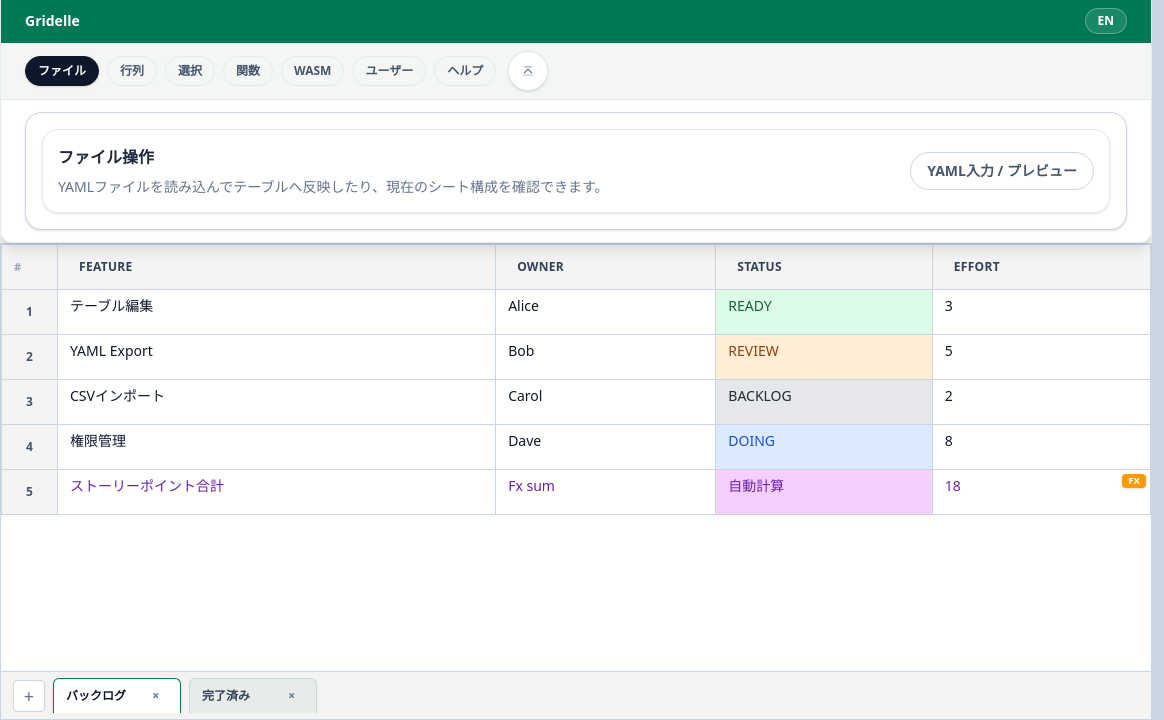
Test: App › すべての列を削除するとテーブルが空状態になる
Click the button with test id "menu-tab-structure" at (132, 71), box [107,56,157,86]
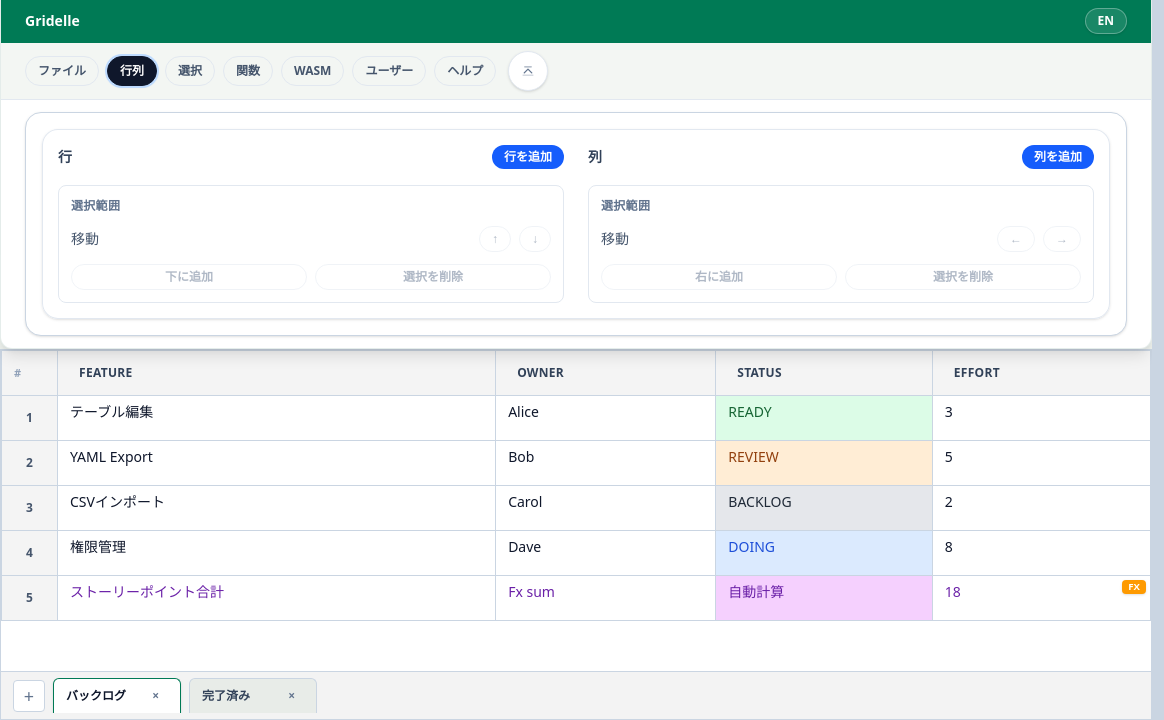
Click the button with test id "column-select-0" at (106, 372), box [70,357,483,389]
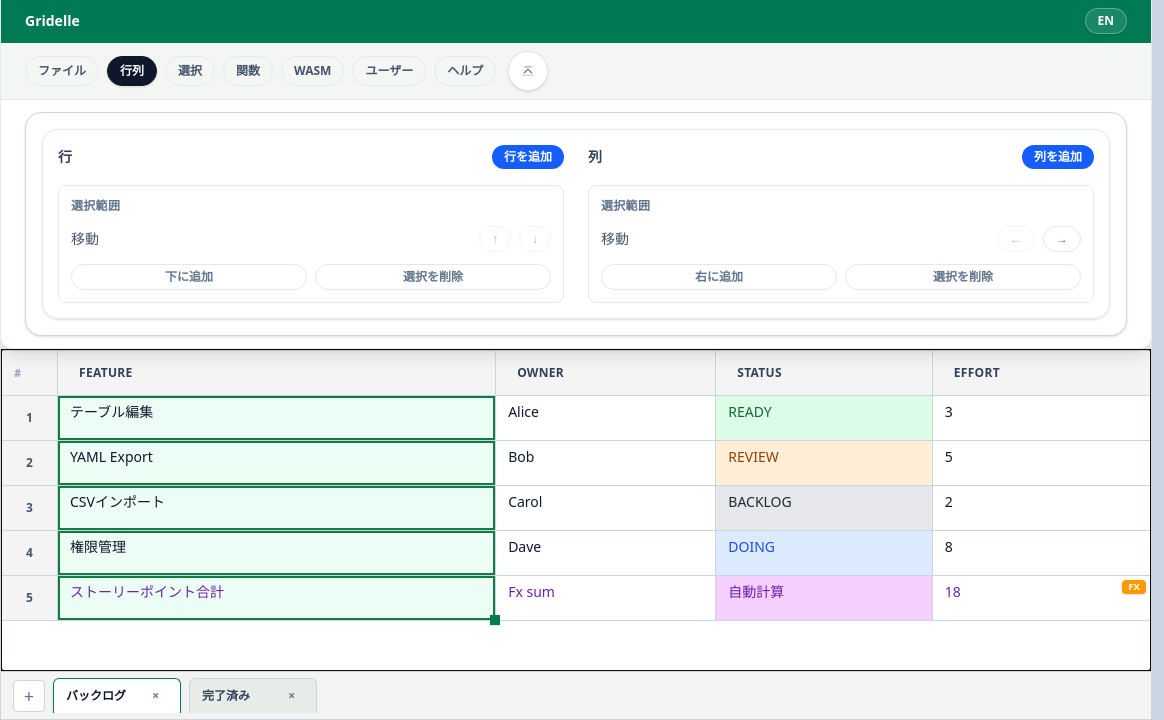
Click the button with test id "column-select-3" at (1041, 373), box [945,357,1138,389]
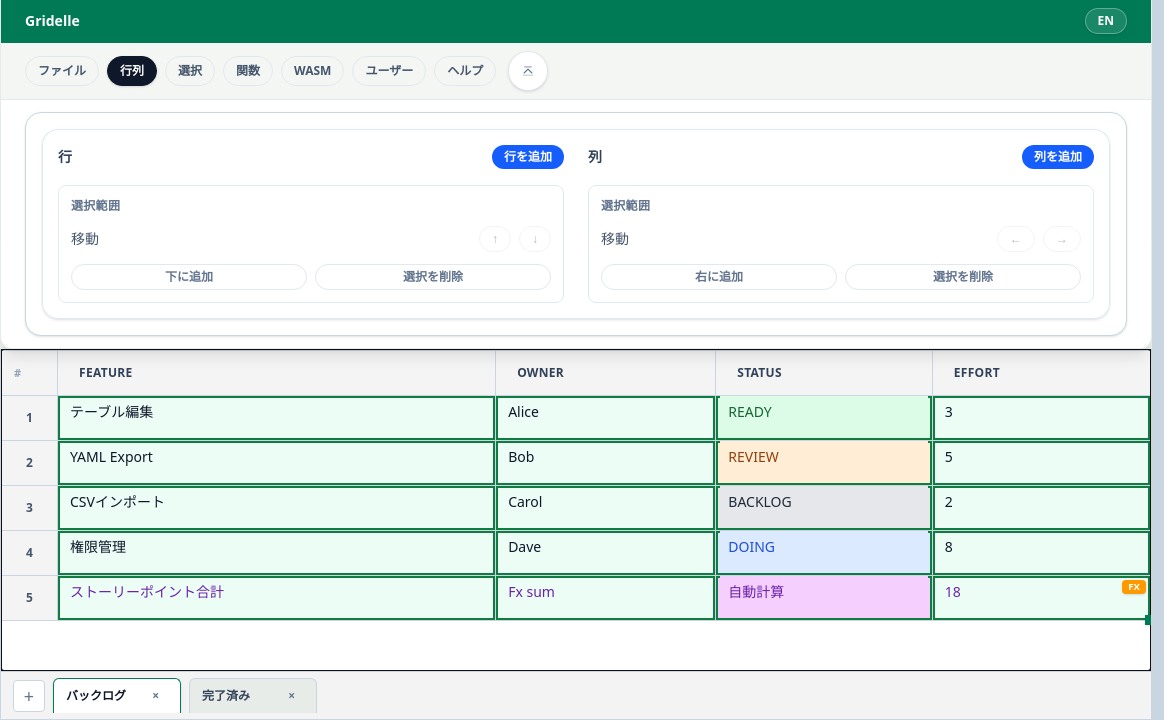
Check: the button with test id "delete-selected-columns" is enabled
Click the button with test id "delete-selected-columns" at (963, 277), box [845,264,1081,290]
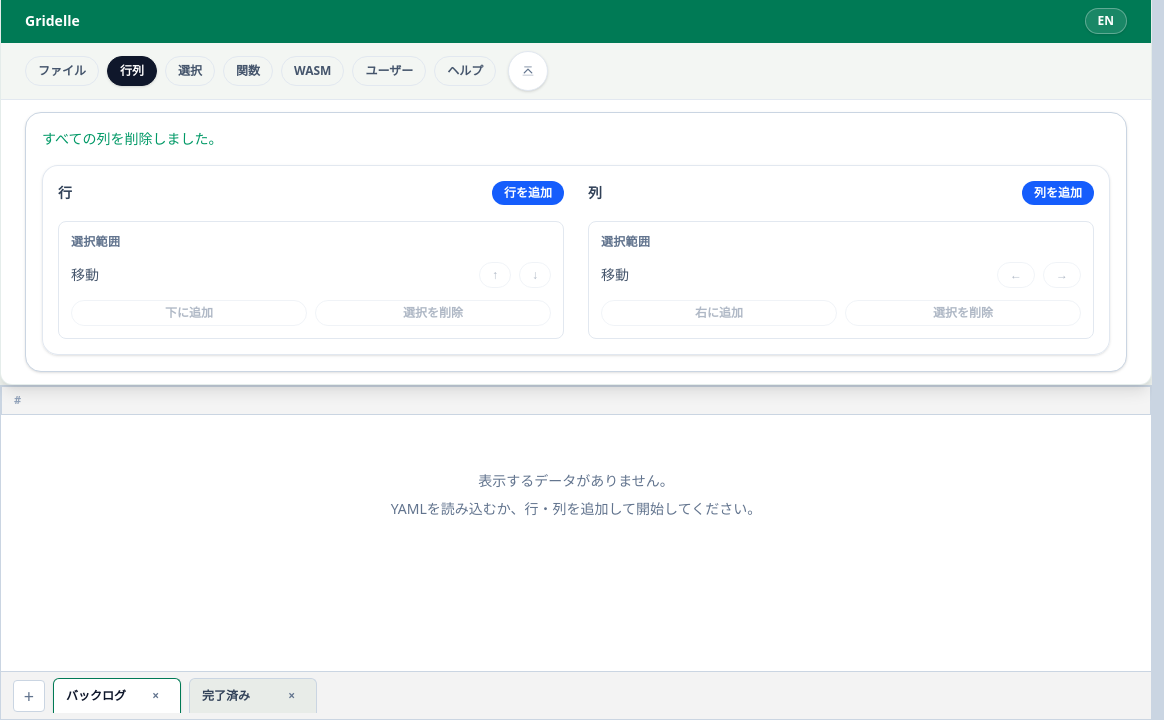
Check: the text "すべての列を削除しました。" is shown, box [42,129,222,148]
Check: no elements with test id "column-title" are shown
Check: the text "表示するデータがありません。" is shown, box [478,471,674,491]
